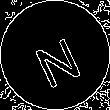N_NW: (26, 24, 84, 86)
